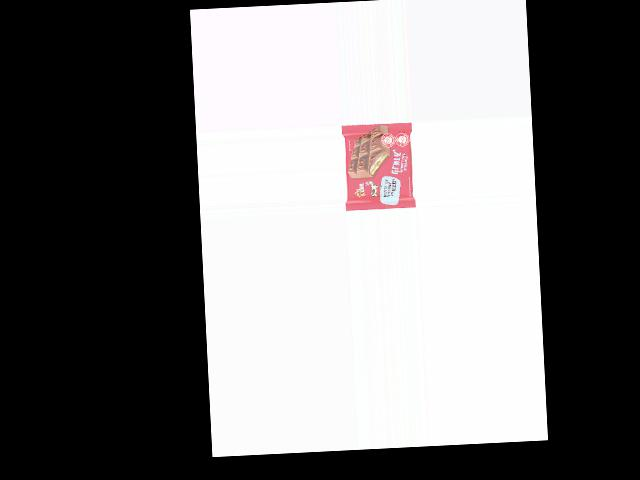chocolate: (342, 123, 416, 208)
